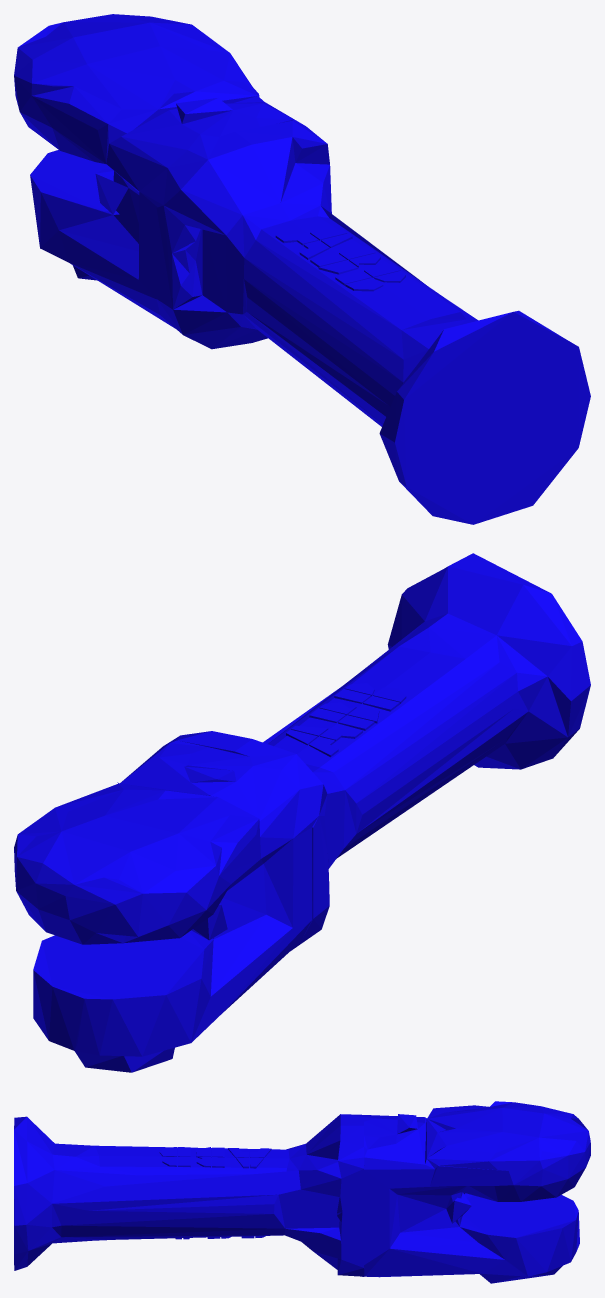
File: ABBIRB2600Link4.dae
3 views of the same model, one above another, from view 1: azimuth 30°, elevation 25°; view 2: azimuth 150°, elevation 25°; view 3: azimuth 270°, elevation 25° (orthographic). The views are drawn at different scales.
Parts seen in each view (by area): view 1: link4; view 2: link4; view 3: link4.
Boxes of the visible parts, bbox=[...] form: link4: bbox=[14, 14, 590, 524]; link4: bbox=[14, 553, 590, 1072]; link4: bbox=[14, 1101, 590, 1283].
Size of the model in its own units: 0.155 by 0.5826 by 0.1665.
